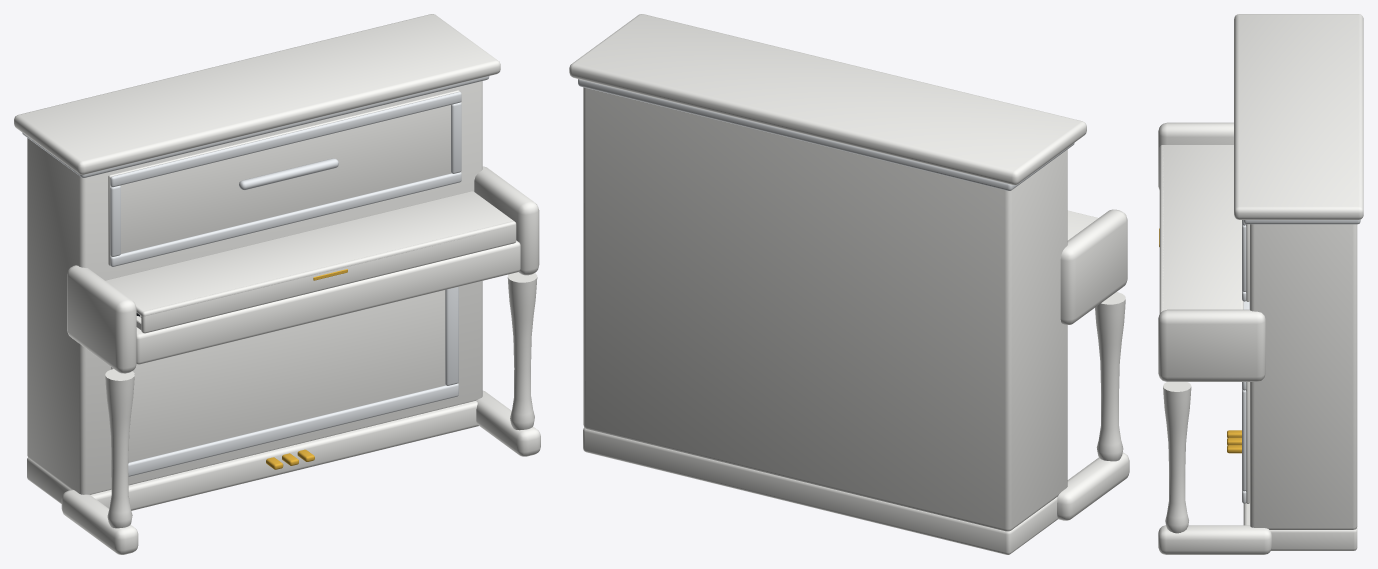
File: piano_armario_branco.glb
3 views of the same model, side by side, from view 1: azimuth 30°, elevation 25°; view 2: azimuth 150°, elevation 25°; view 3: azimuth 270°, elevation 25° (orthographic). The views are drawn at different scales.
Parts seen in each view (by area): view 1: piano_armario_branco, tampa_teclado; view 2: piano_armario_branco; view 3: piano_armario_branco, tampa_teclado.
Part boxes in pixels (x1,y1,x2,y2): piano_armario_branco: (14, 14, 540, 554); tampa_teclado: (105, 191, 516, 333); piano_armario_branco: (569, 14, 1129, 554); piano_armario_branco: (1158, 14, 1363, 554); tampa_teclado: (1159, 145, 1243, 313).
Bounding box in the file's own units: 1.49 × 1.22 × 0.65.
1 material, 1 textured.
